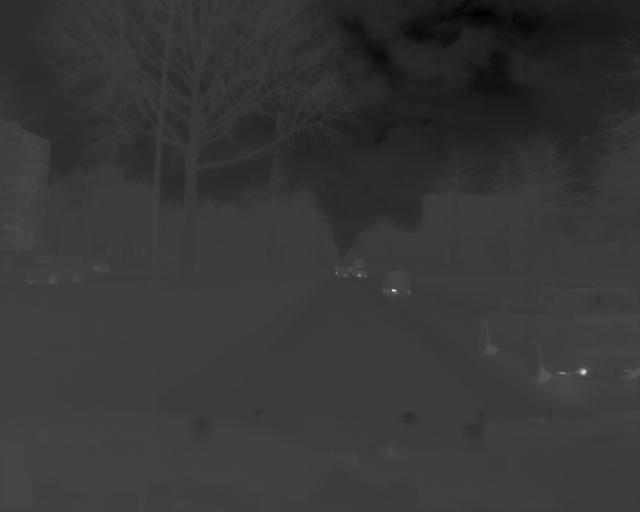car: (477, 276, 640, 387), (24, 251, 85, 287), (380, 265, 414, 298)
